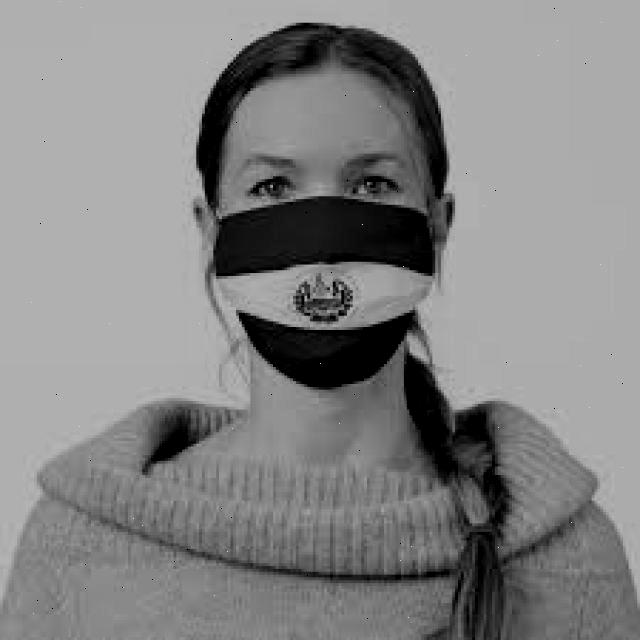fake: (213, 197, 438, 389)
real: (215, 73, 437, 399)
